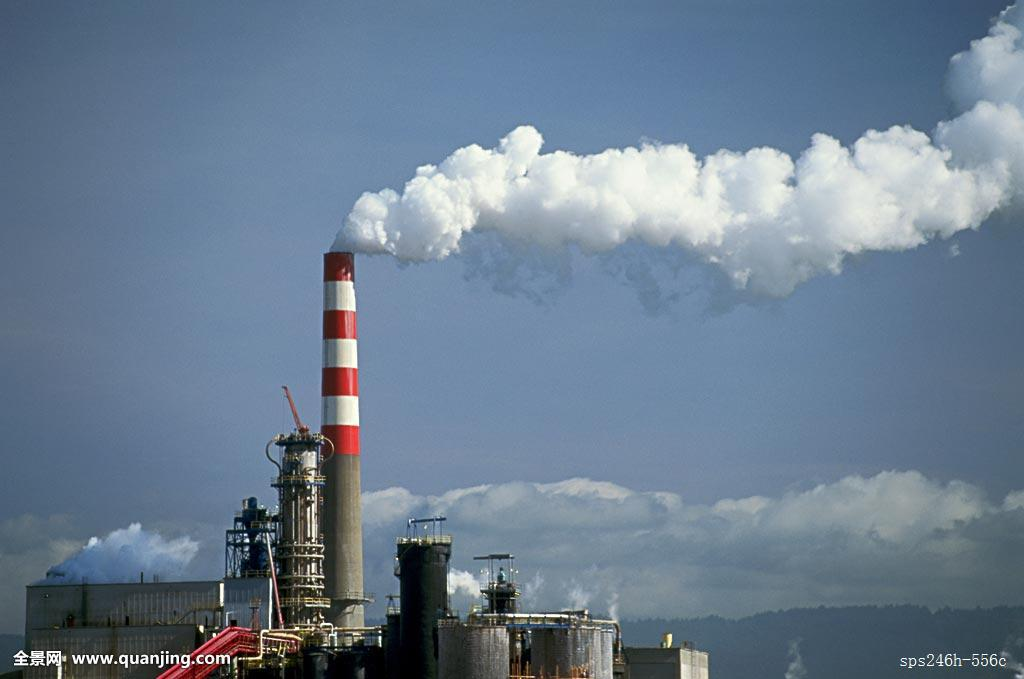dust: (319, 113, 607, 276)
